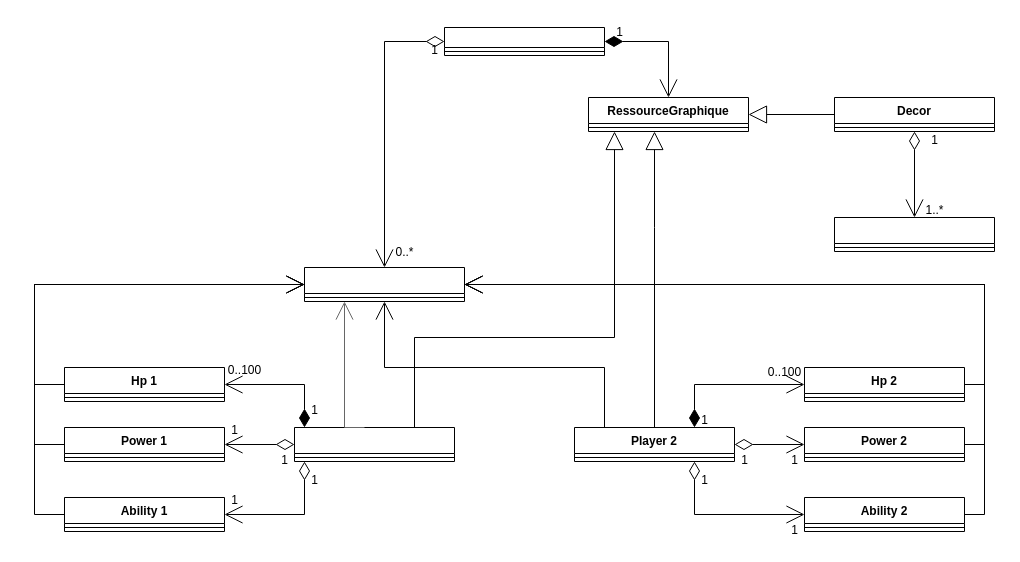
This 1020x562 diagram has some shape labels left out. The shapes that lost their labels are listed below. From the top down, each one's centre as x and y in pixels, then its label:
the point at 524,41: Game
the point at 914,234: Background
the point at 384,284: Animation
the point at 374,444: Player 1
